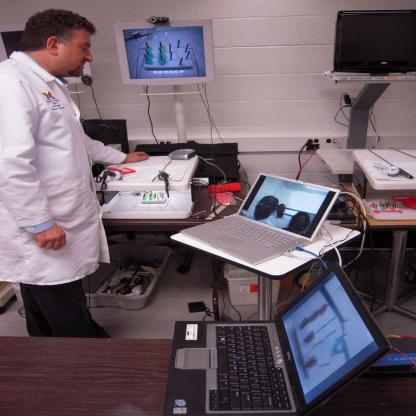board: (166, 279, 384, 416), (180, 172, 342, 266)
